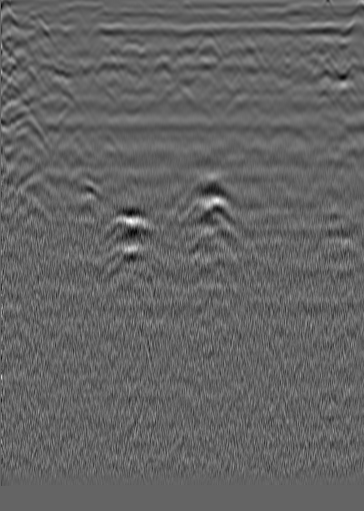가스: (101, 212, 152, 244)
상수: (320, 26, 340, 46)
오수: (27, 21, 47, 41)
우수: (194, 30, 214, 50)
